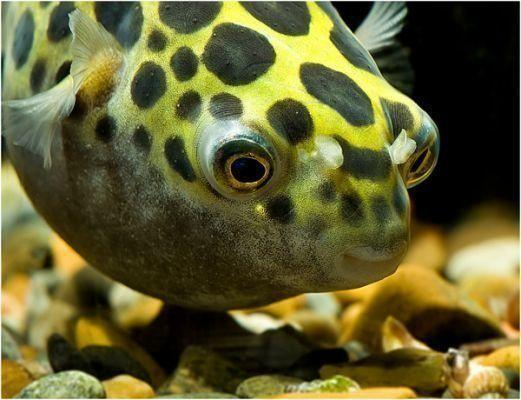Green Spotted Puffer: (0, 0, 445, 312)
